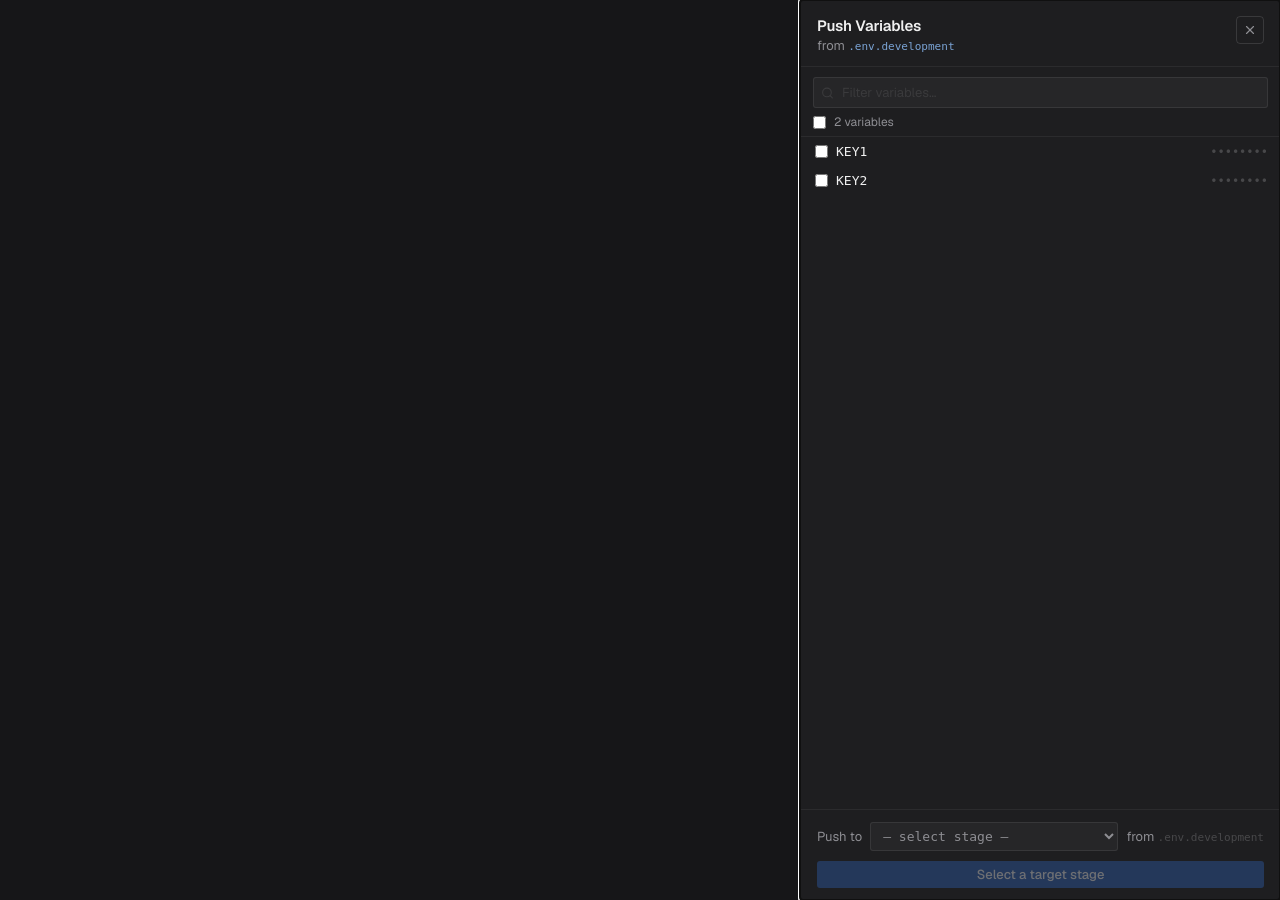
Test: PushToStagePanel › Stage selection + conflict detection › CTA label updates when selection changes
The image size is (1280, 900).
Select ".env.staging (empty)" in the dropdown with test id "stage-selector" at (994, 836), box top-left (870, 822), bottom-right (1118, 851)
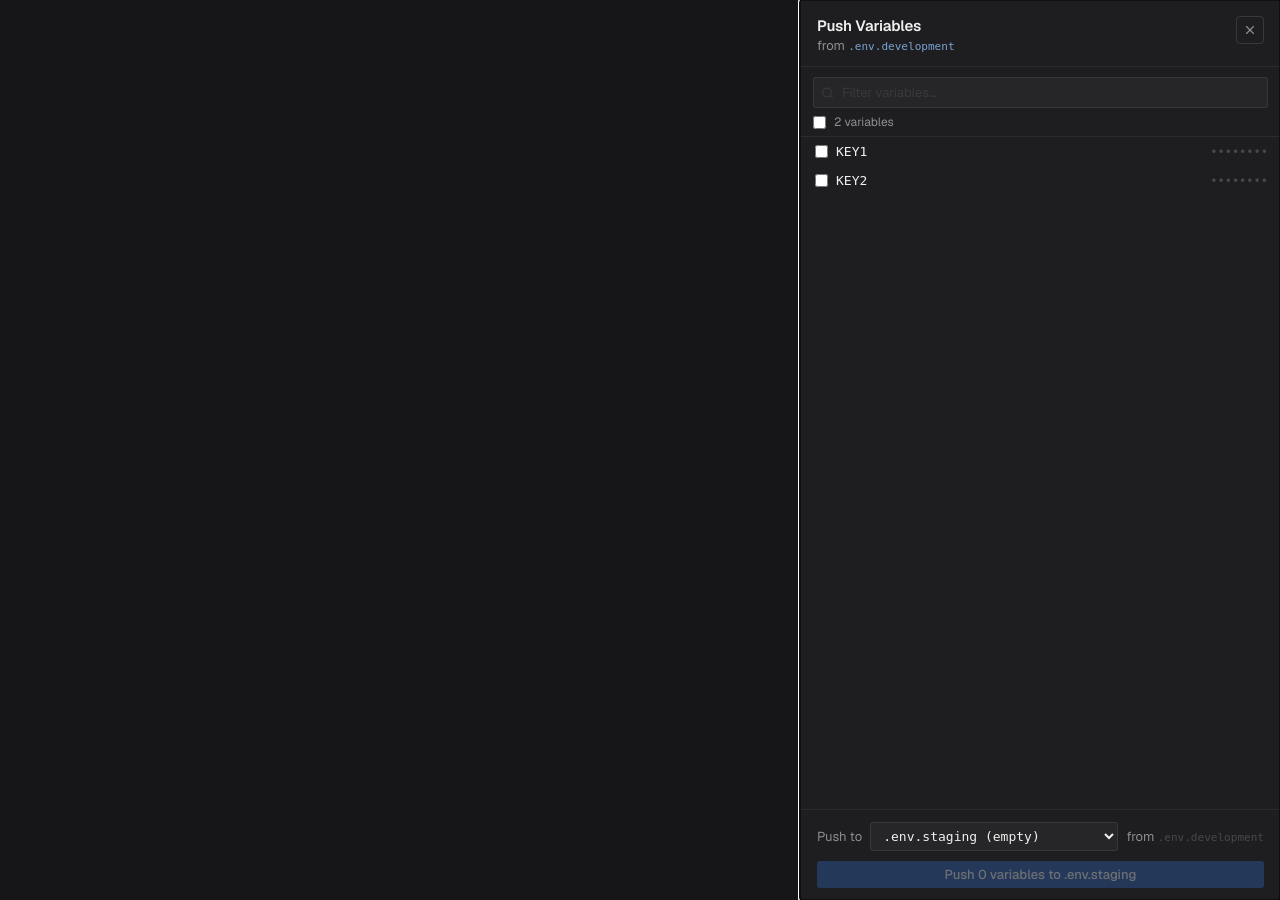
# Select one var
Click the row "KEY1 ••••••••" at (852, 152), box top-left (815, 144), bottom-right (1268, 159)
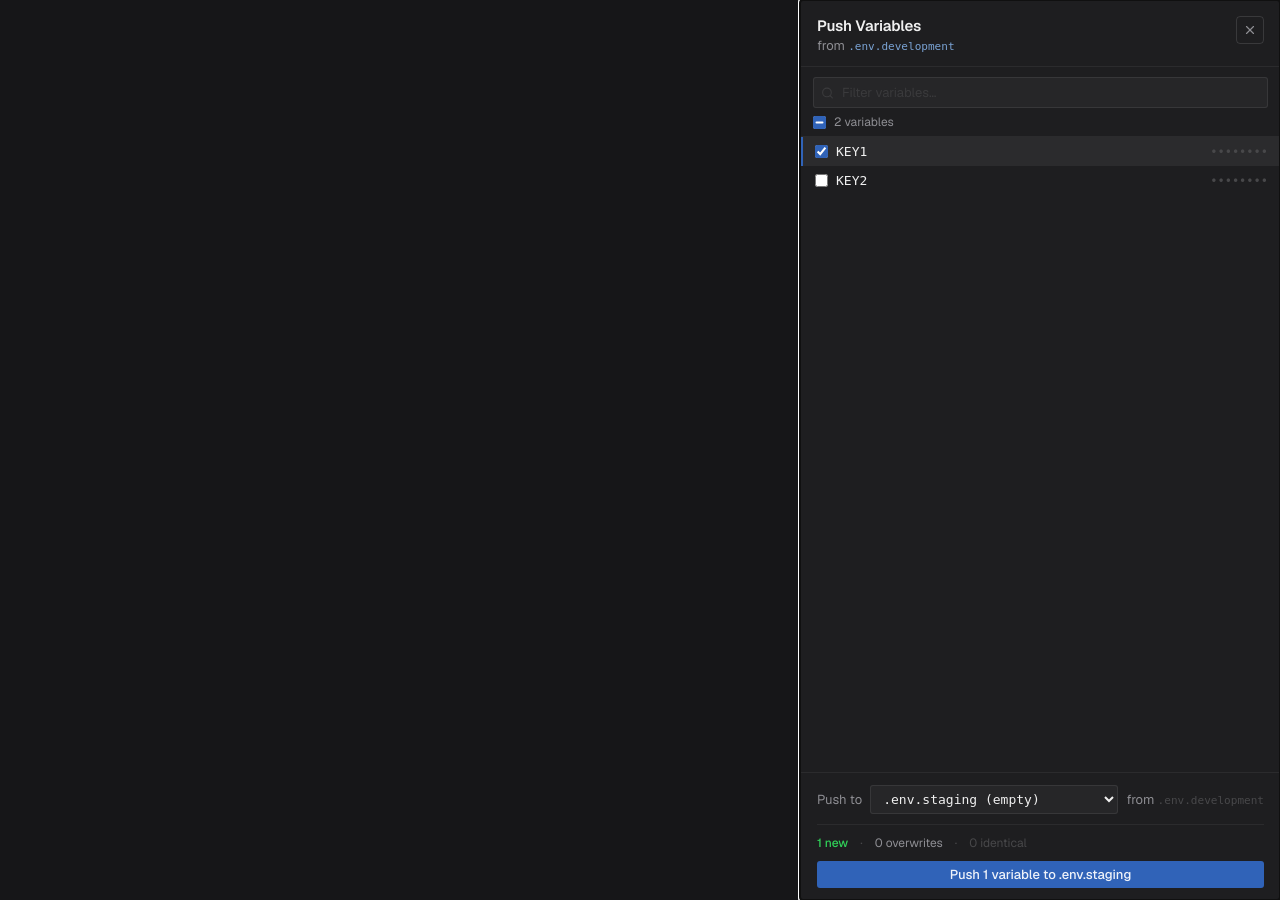
Now the button with test id "push-cta-button" shows "Push 1 variable", box top-left (817, 861), bottom-right (1264, 888)
# Select second var
Click the row "KEY2 ••••••••" at (852, 180), box top-left (815, 173), bottom-right (1268, 188)
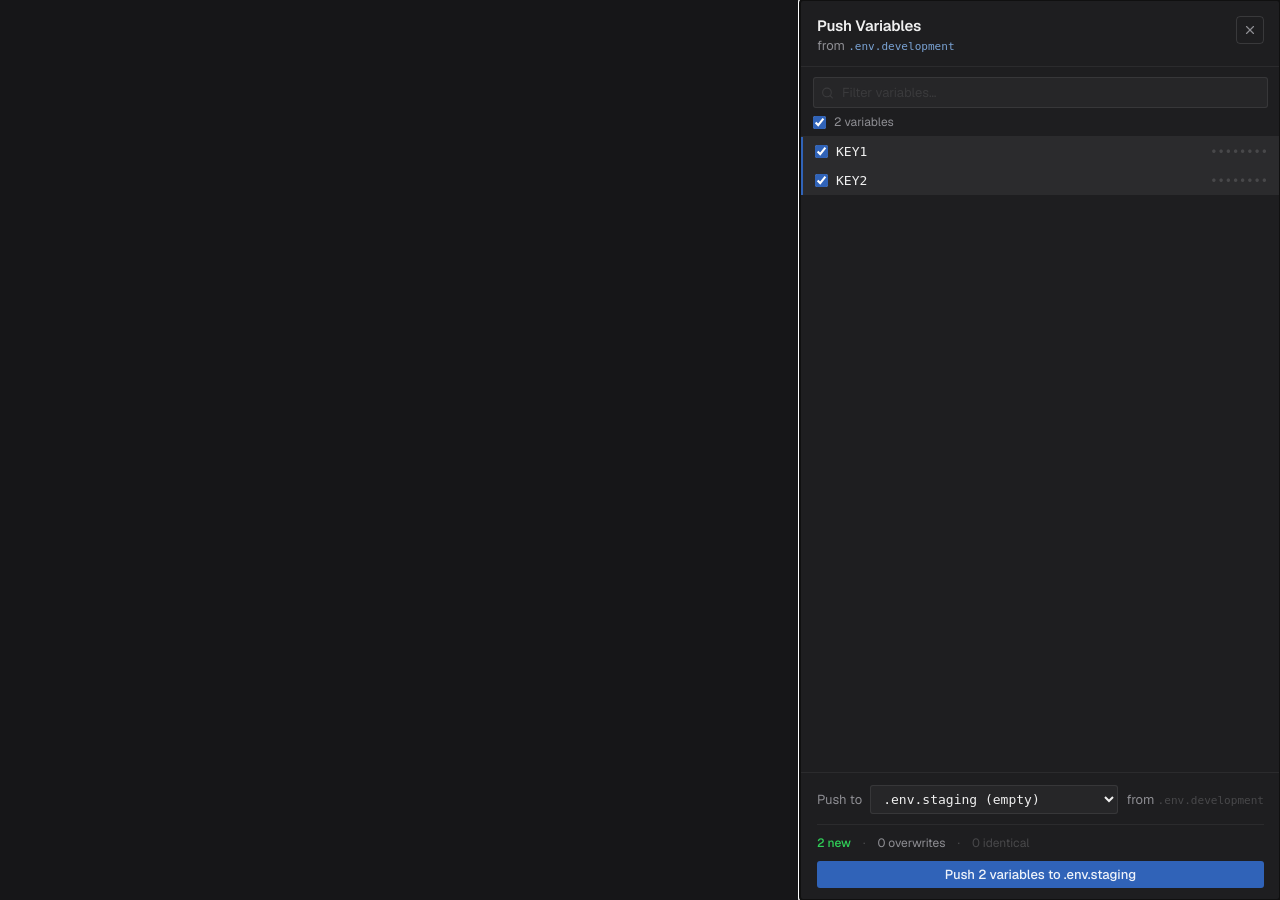
Now the button with test id "push-cta-button" shows "Push 2 variables", box top-left (817, 861), bottom-right (1264, 888)
